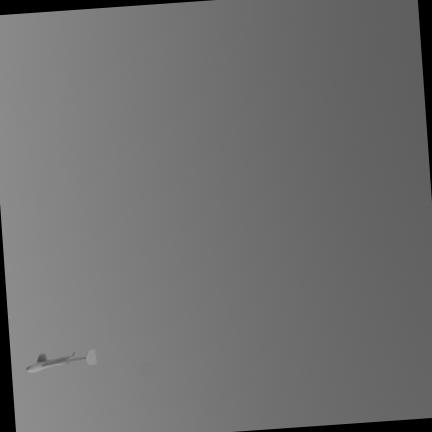Shahed: (26, 349, 95, 372)
